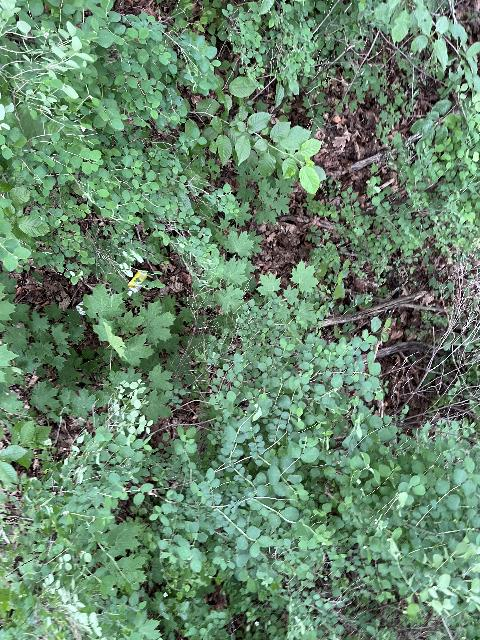can: (126, 269, 148, 297)
plastic_bottle: (65, 292, 99, 322)
